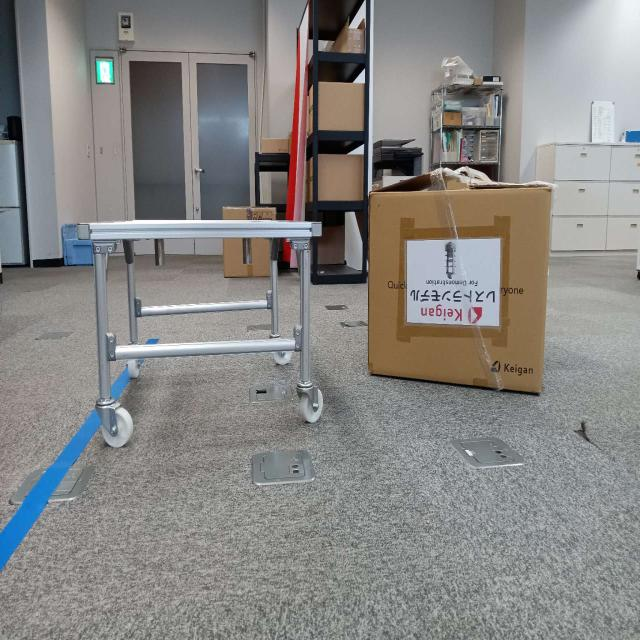box: (371, 173, 541, 397)
side: (94, 216, 313, 360)
